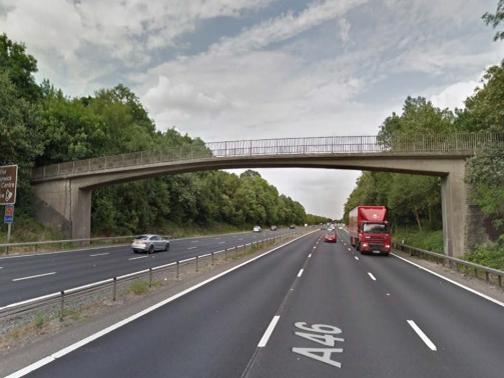bridge: (31, 132, 503, 258)
